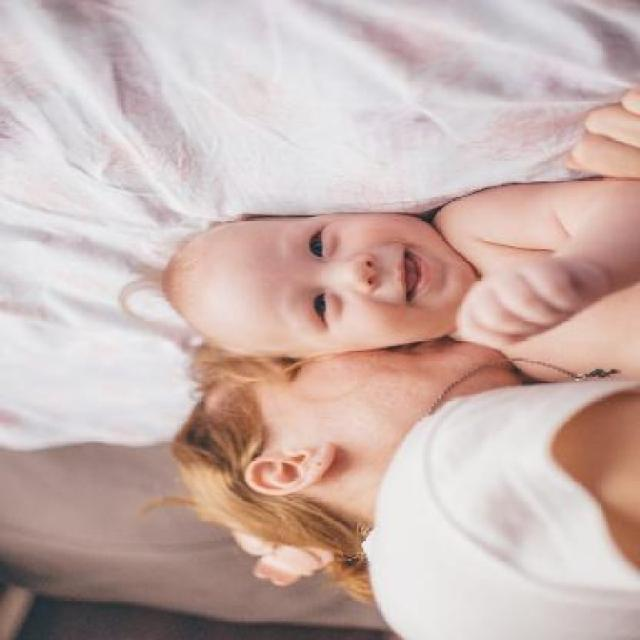baby: (162, 182, 638, 368)
